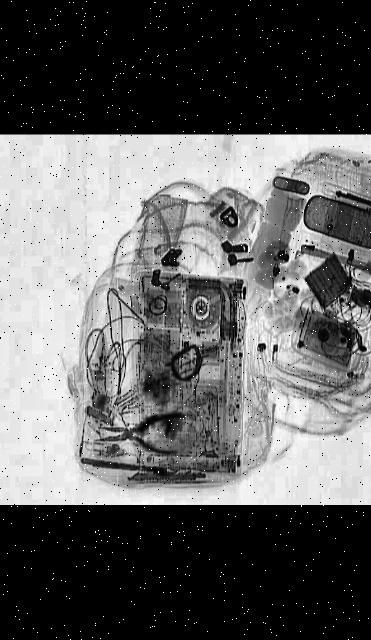Pliers: (92, 410, 188, 456)
